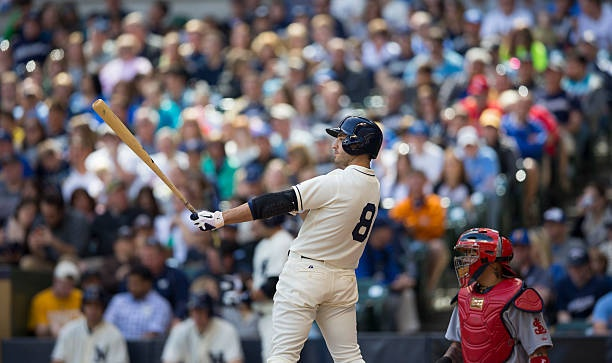bita: (88, 100, 200, 219)
